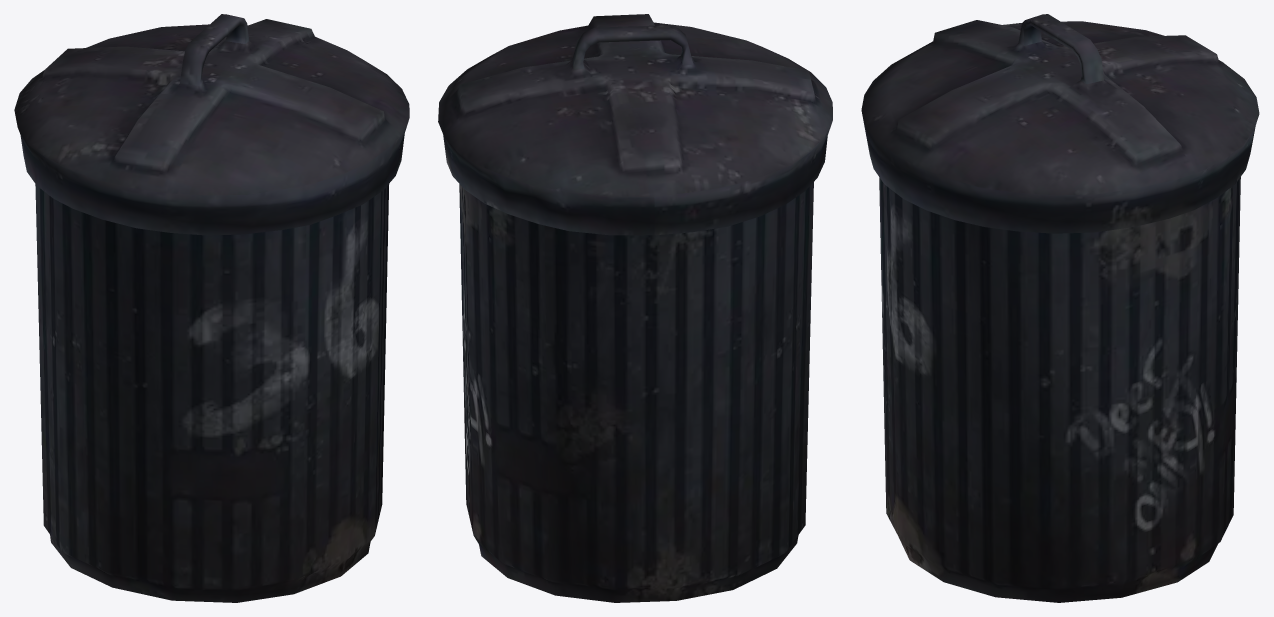
The model's file is blackbin.glb.
3 renders of one model, left to right at view 1: azimuth 30°, elevation 25°; view 2: azimuth 150°, elevation 25°; view 3: azimuth 270°, elevation 25°, orthographic.
Parts seen in each view (by area): view 1: blackbin; view 2: blackbin; view 3: blackbin.
Boxes of the visible parts, x1,y1,x2,y2 form: blackbin: (14,14,409,602); blackbin: (438,14,832,602); blackbin: (861,14,1259,602).
Bounding box in the file's own units: 0.8299 × 1.18 × 0.8308.
Materials: 1 (1 with a texture image).
